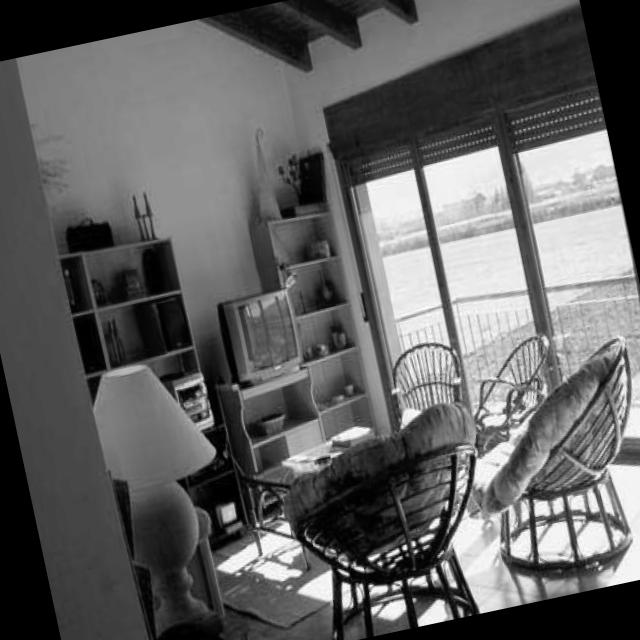2001: (413, 109, 567, 461), (499, 79, 640, 456)
Lamp: (90, 361, 226, 634)
TV: (215, 285, 303, 388)
bag occluded: (66, 224, 113, 245)
balcony: (395, 266, 640, 431)
chair -occluded-: (280, 401, 478, 640), (466, 335, 632, 579)
door bars: (337, 141, 474, 458)
hi-fi system: (168, 371, 212, 434)
rug -partially obscured-: (228, 541, 359, 627)
shelves crop: (246, 211, 381, 480), (213, 363, 332, 515)
speaker: (138, 292, 194, 359)
